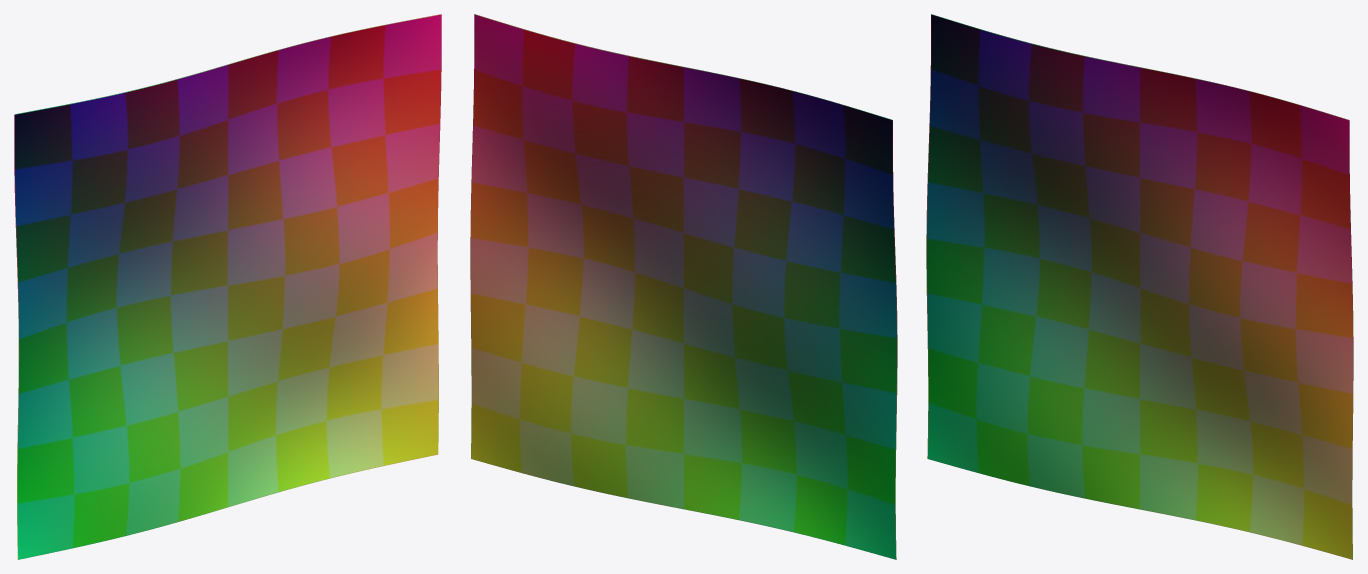
The model's file is Tile_+020_+009.obj.
The picture shows the model from 3 angles, left to right: view 1: azimuth 30°, elevation 25°; view 2: azimuth 150°, elevation 25°; view 3: azimuth 330°, elevation 25°; orthographic projection.
Size of the model in its own units: 100 by 100 by 5.91.
